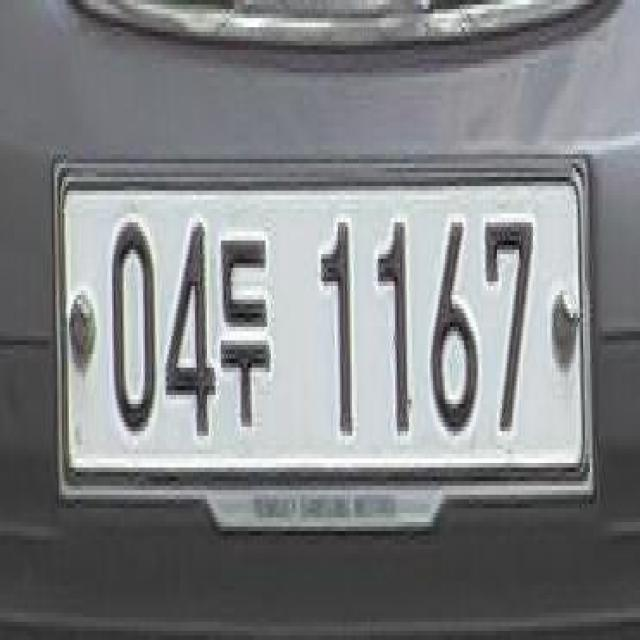illegal_plate: (48, 134, 601, 548)
